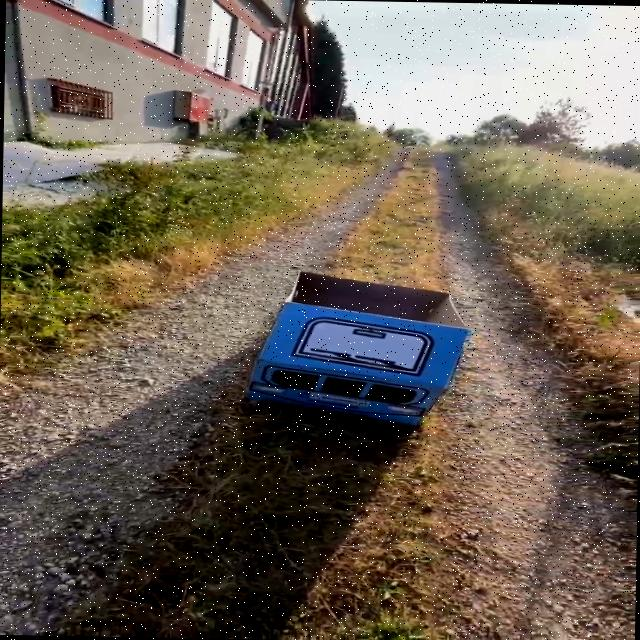blue_car: (199, 245, 494, 467)
